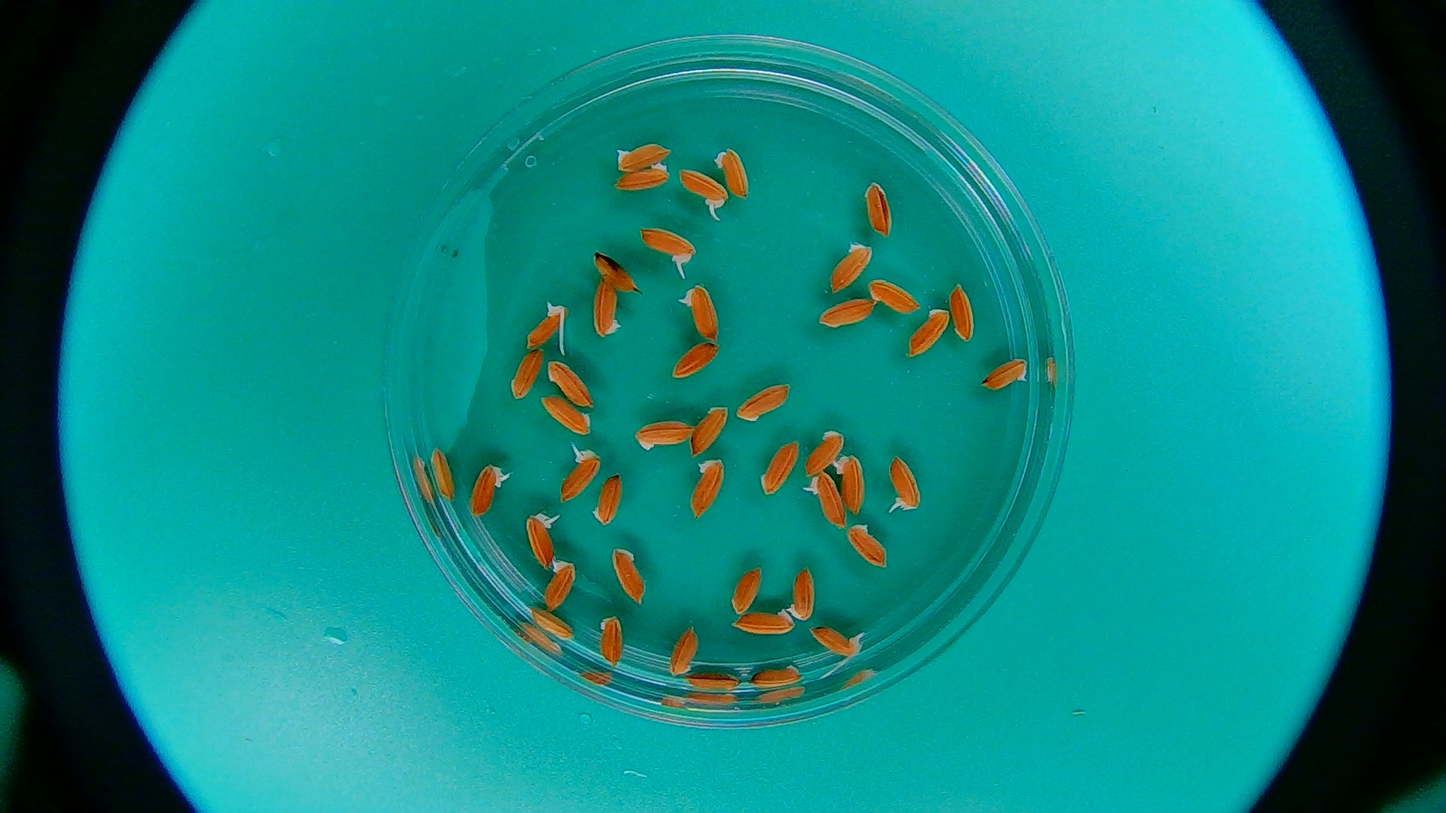no: (676, 455, 731, 518), (823, 239, 874, 294), (547, 359, 599, 411), (610, 541, 648, 610), (536, 392, 593, 437), (905, 304, 951, 359), (589, 472, 633, 528), (760, 438, 803, 495), (849, 521, 894, 574), (869, 276, 924, 319), (686, 401, 729, 456), (633, 416, 700, 451), (810, 298, 883, 330), (800, 426, 843, 479), (541, 557, 580, 614), (594, 608, 633, 665), (948, 278, 981, 345), (981, 355, 1033, 397), (714, 147, 756, 199), (832, 452, 867, 514), (674, 337, 725, 379), (508, 346, 543, 405), (863, 180, 898, 238), (590, 248, 637, 291), (740, 381, 789, 422), (668, 626, 705, 676), (530, 602, 575, 643), (791, 563, 822, 622), (610, 142, 675, 170), (606, 162, 671, 190), (732, 610, 792, 639), (428, 443, 459, 498), (593, 281, 622, 339), (684, 667, 743, 695), (732, 566, 767, 613), (749, 663, 805, 689)
yes: (804, 468, 850, 524), (560, 450, 606, 501), (678, 166, 730, 209), (808, 625, 864, 661), (469, 464, 505, 519), (685, 287, 722, 340), (888, 457, 924, 510), (526, 513, 558, 570), (526, 303, 566, 348), (642, 230, 694, 263)
